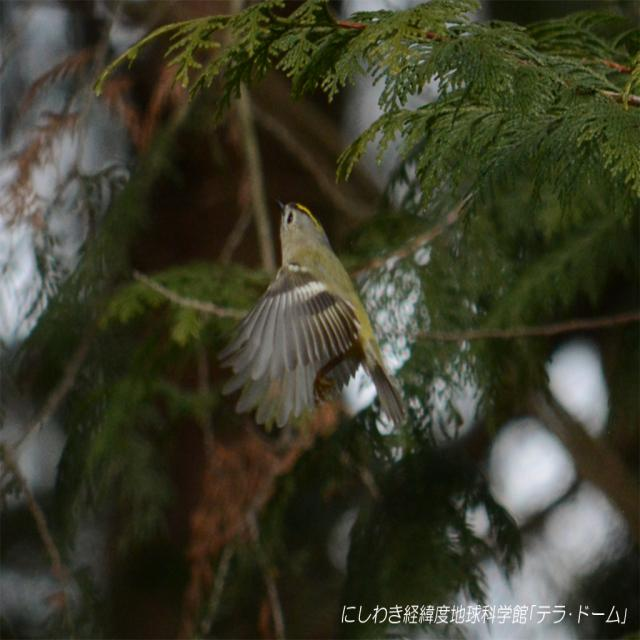bird: (214, 193, 392, 457)
